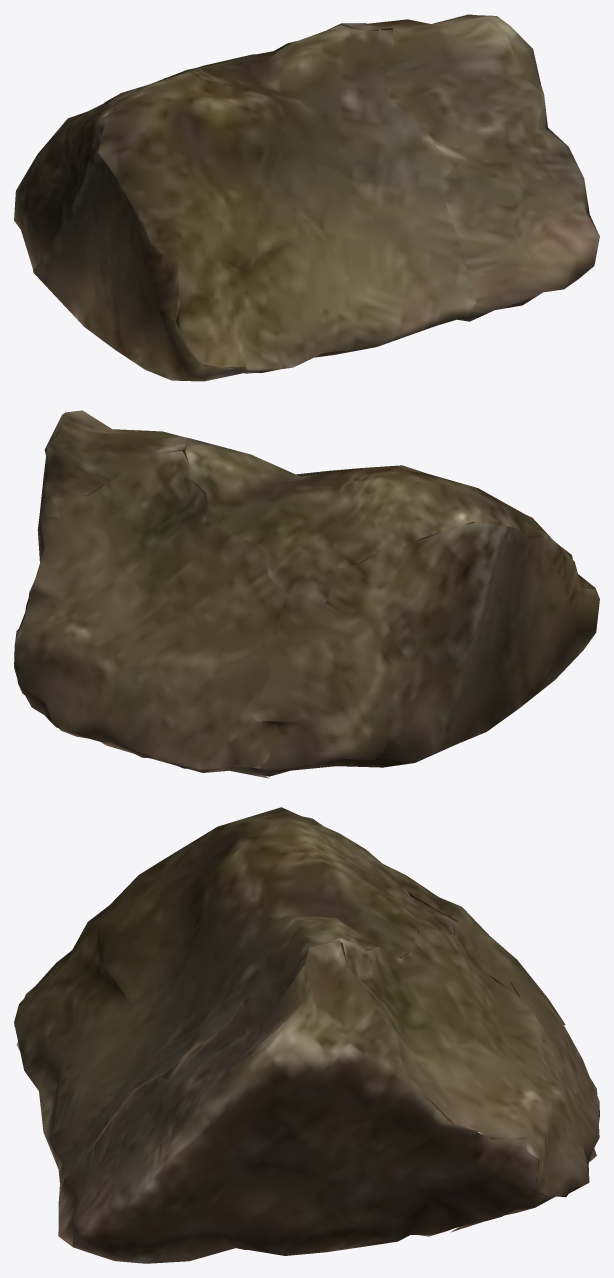
The model's file is rock.glb.
3 renders of one model, top to bottom at view 1: azimuth 30°, elevation 25°; view 2: azimuth 150°, elevation 25°; view 3: azimuth 270°, elevation 25°, orthographic. The views are drawn at different scales.
Visible parts, largest first — view 1: rock_moss_set_01_rock03; view 2: rock_moss_set_01_rock03; view 3: rock_moss_set_01_rock03.
Part boxes in pixels (x1,y1,x2,y2): rock_moss_set_01_rock03: [14, 14, 599, 381]; rock_moss_set_01_rock03: [14, 410, 599, 778]; rock_moss_set_01_rock03: [14, 807, 599, 1263].
Bounding box in the file's own units: 2 × 1.04 × 1.97.
Materials: 1 (1 with a texture image).
